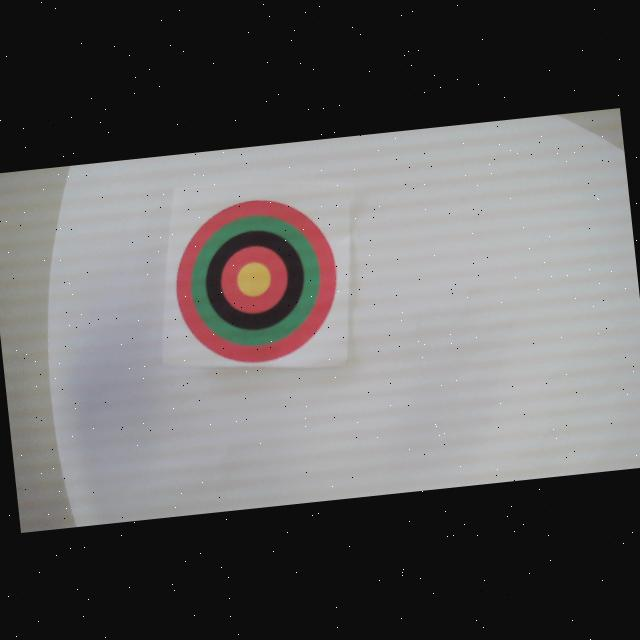COGNITIVE: (167, 191, 346, 370)
